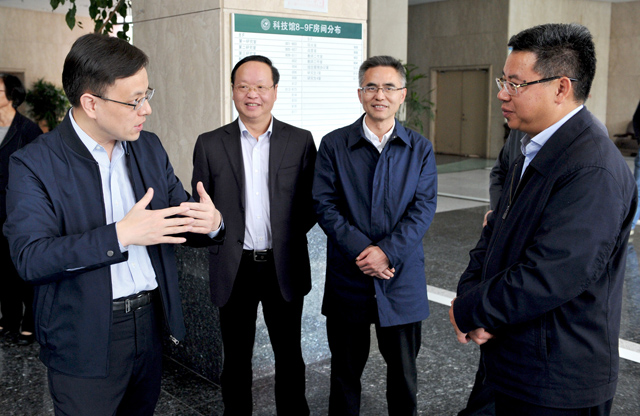noWear: (496, 59, 573, 136), (81, 83, 157, 147), (356, 75, 409, 123), (230, 72, 279, 122), (1, 77, 16, 111)
